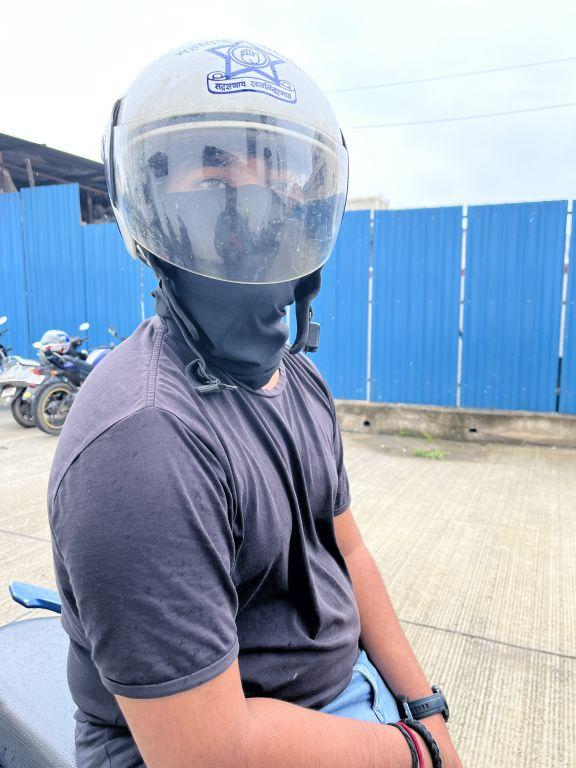helmet: (92, 25, 357, 332)
